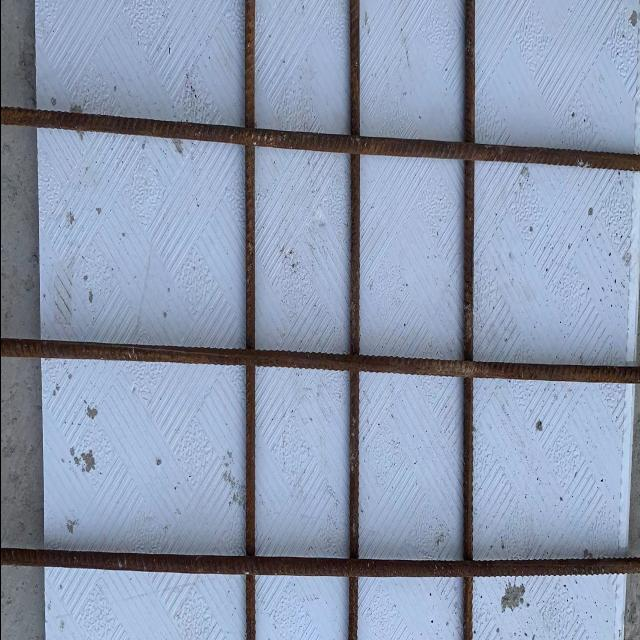ribbed bar: (1, 104, 640, 175), (1, 336, 640, 389), (1, 543, 640, 579), (345, 1, 361, 640), (462, 1, 476, 640), (242, 1, 256, 640)
